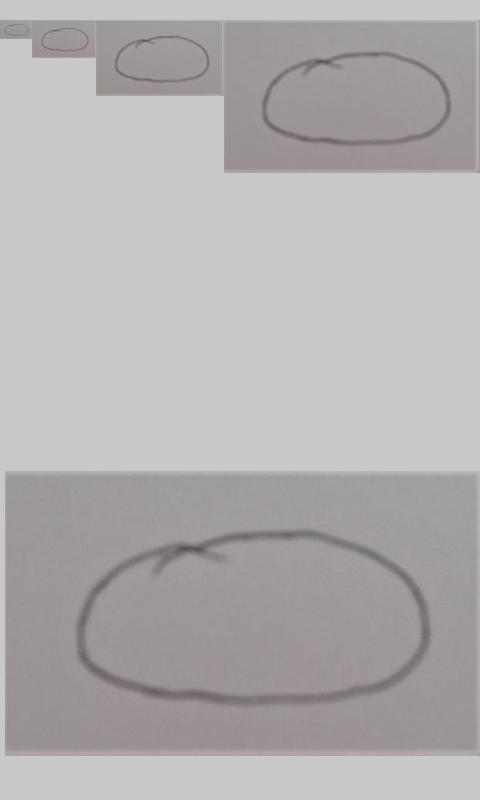chip: (74, 528, 435, 708), (262, 51, 454, 146), (115, 35, 211, 84), (40, 27, 90, 52), (4, 23, 30, 36)
